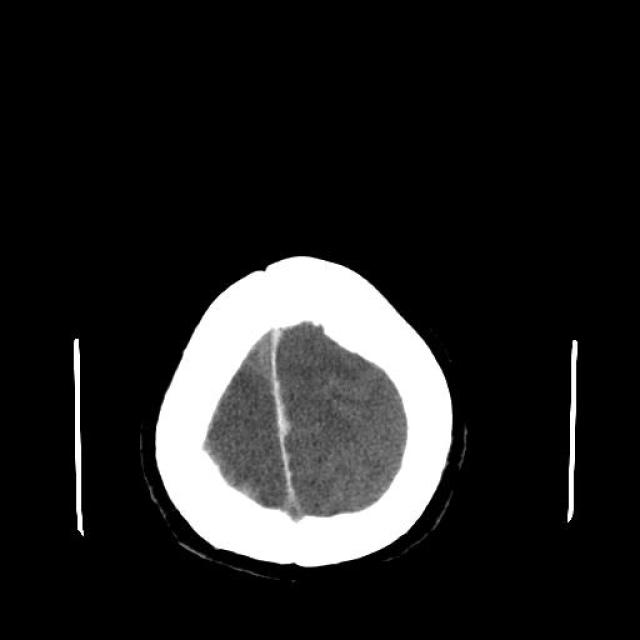Subdural: (258, 324, 302, 526)
